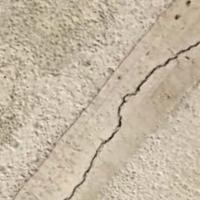crack: (59, 35, 199, 199)
